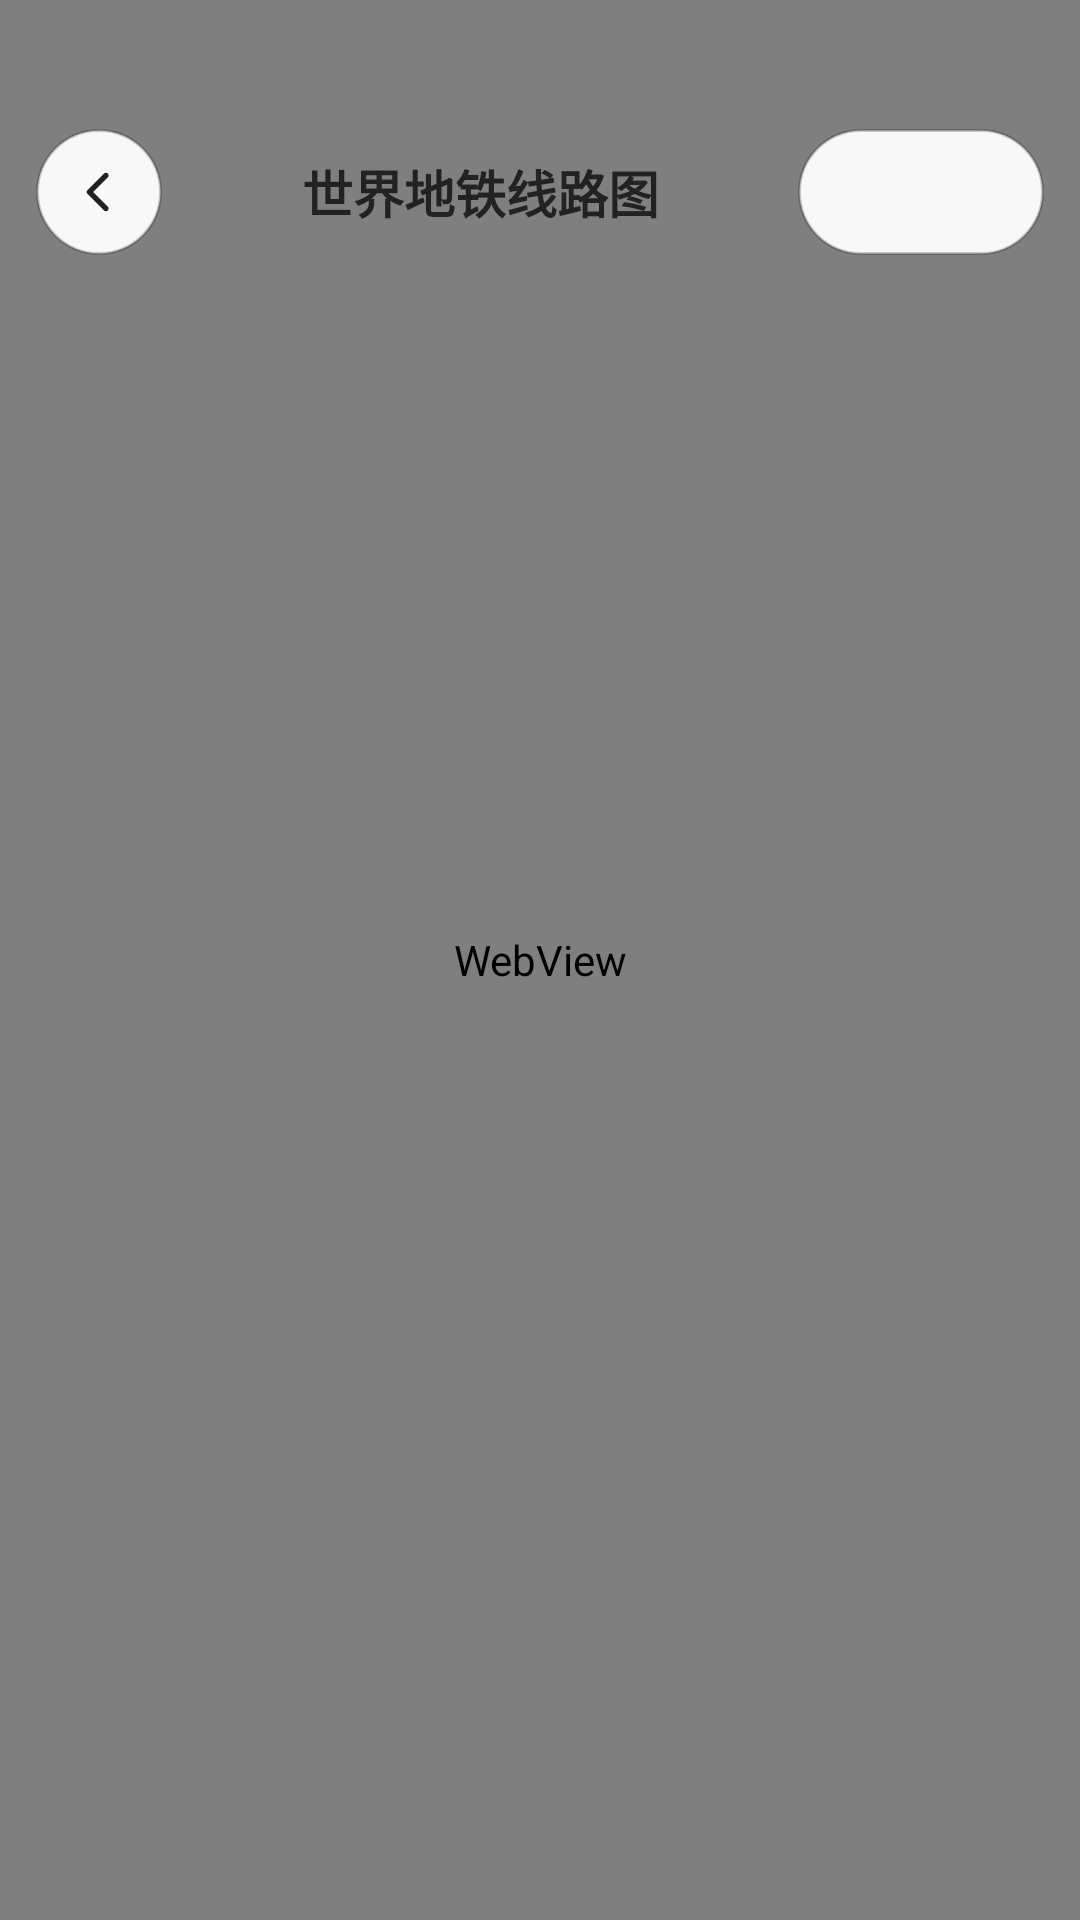

Point at icon controls on the screen. Image size 1080×1920, points as point (x, y).
back chevron: point (99, 192)
